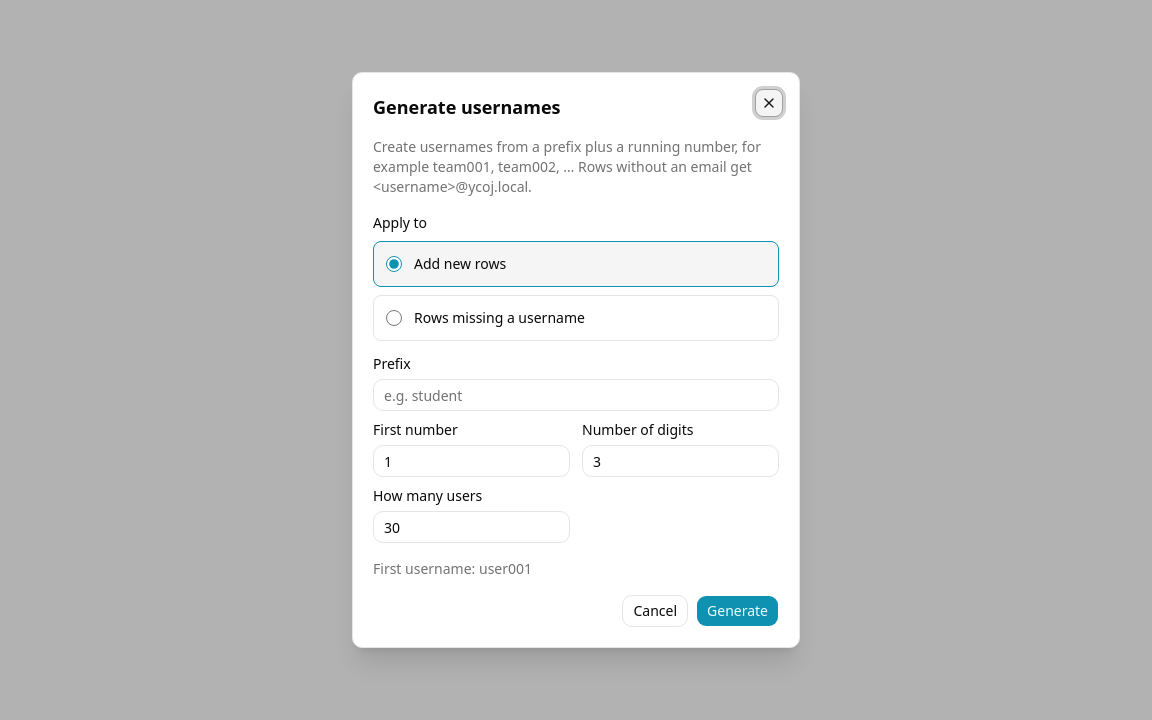
Test case: usernames dialog › keeps the dialog open and its input on invalid applies
The image size is (1152, 720).
Click the button "Generate" at (738, 611), box top-left (696, 595), bottom-right (779, 627)
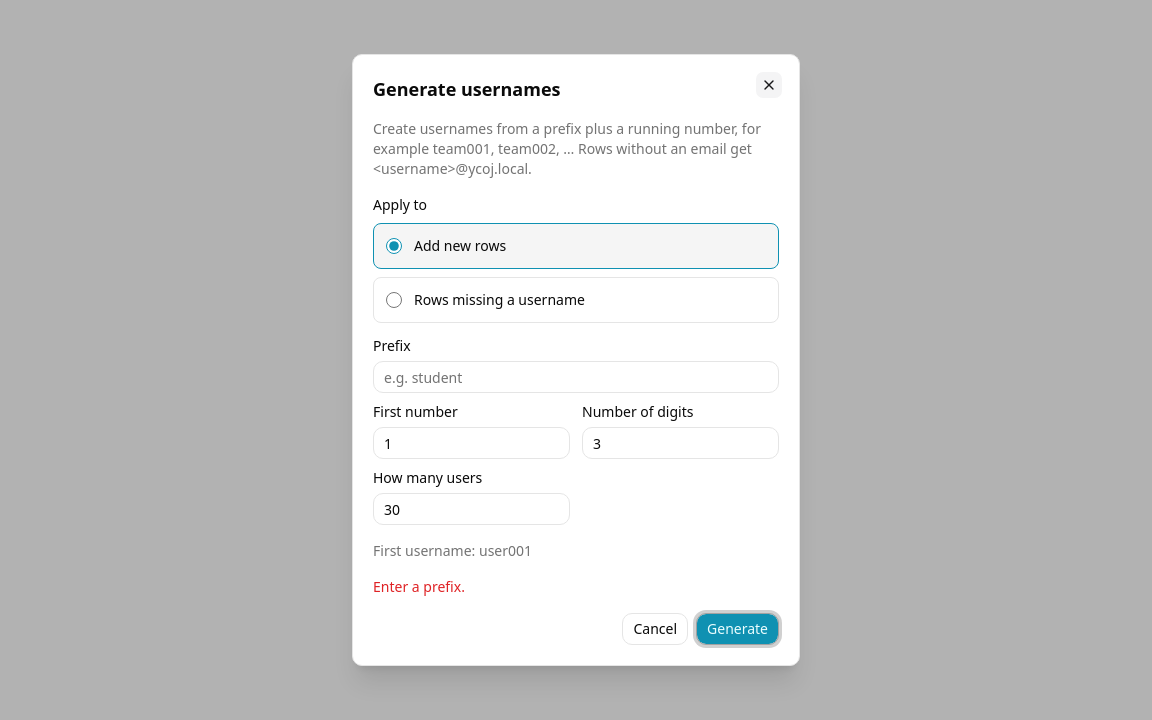
Result: the message reads "Enter a prefix." at top-left (373, 577), bottom-right (465, 596)
Type "s" into the field labelled "Prefix" at (576, 377), box top-left (373, 361), bottom-right (779, 393)
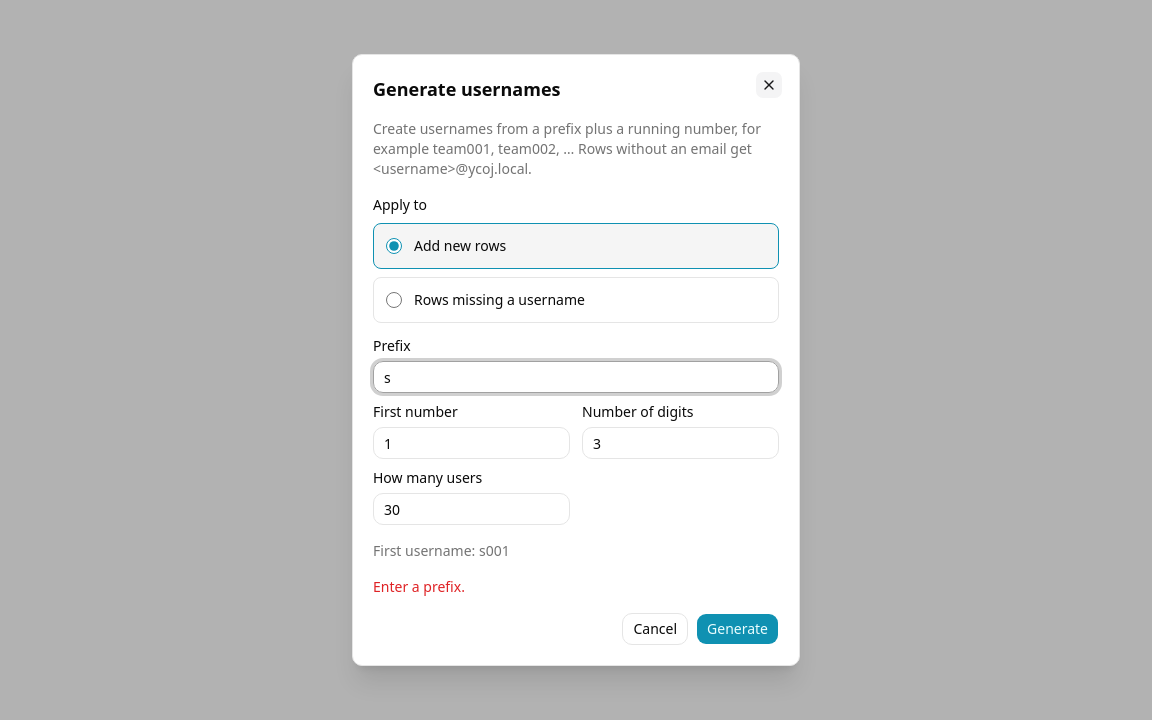
Replace the text in the number field labelled "How many users" with "2000" at (472, 509), box top-left (373, 493), bottom-right (570, 525)
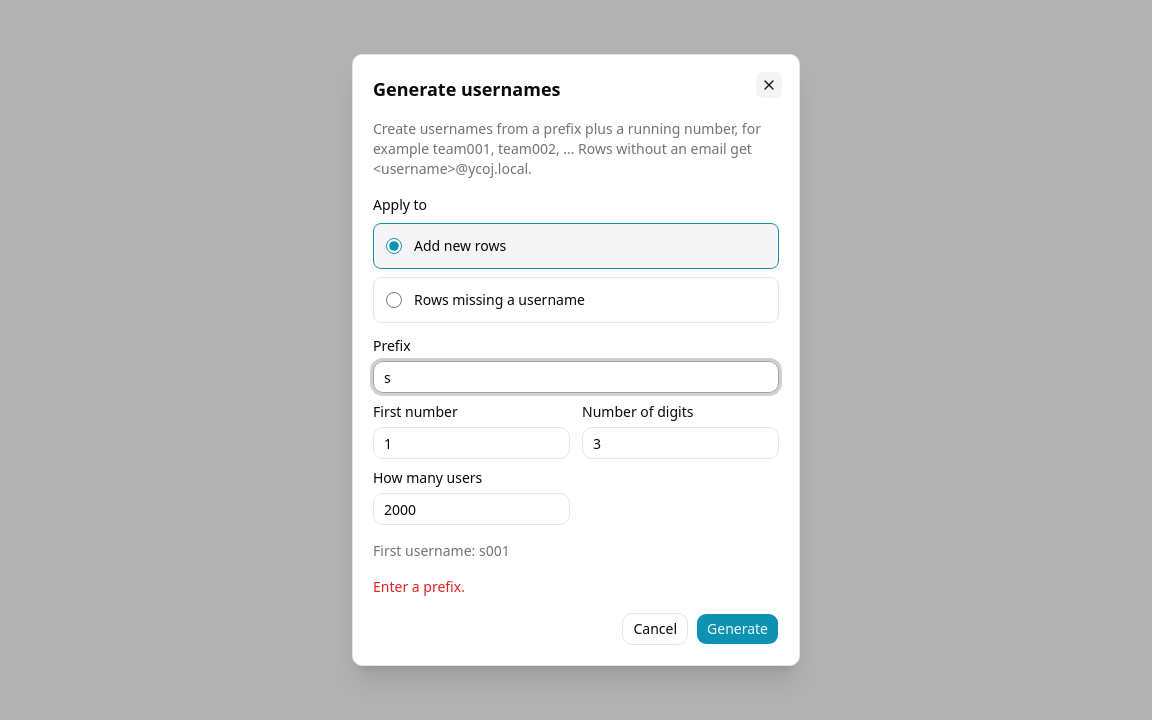
Click the button "Generate" at (738, 629), box top-left (696, 613), bottom-right (779, 645)
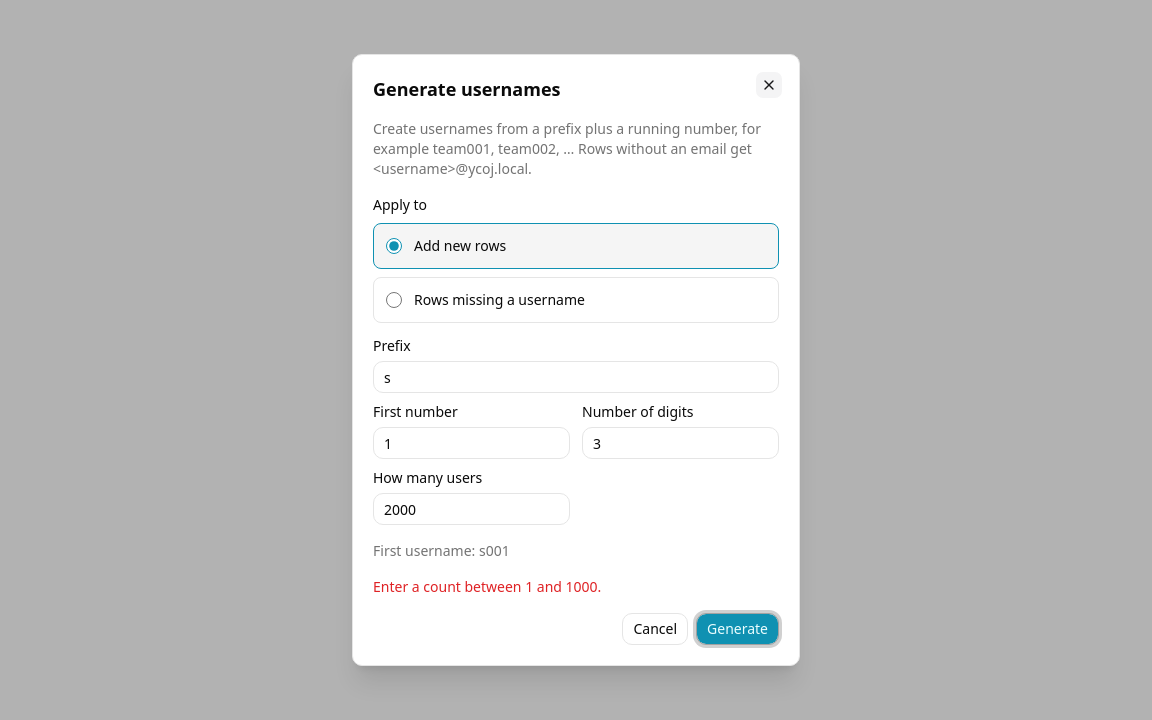
Expected: the dialog is shown, top-left (352, 54), bottom-right (800, 666)
Result: the message reads "Enter a count between 1 and 1000." at top-left (373, 577), bottom-right (601, 596)
